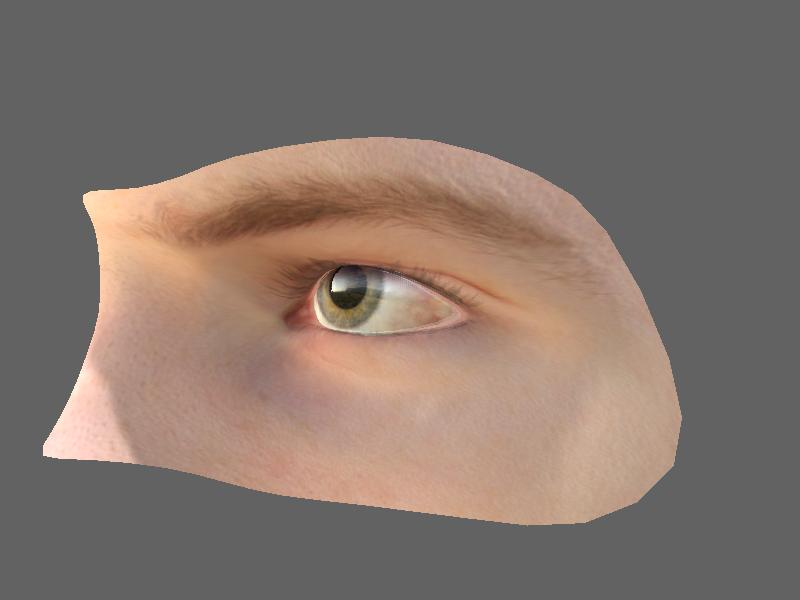iris: (311, 262, 389, 328)
